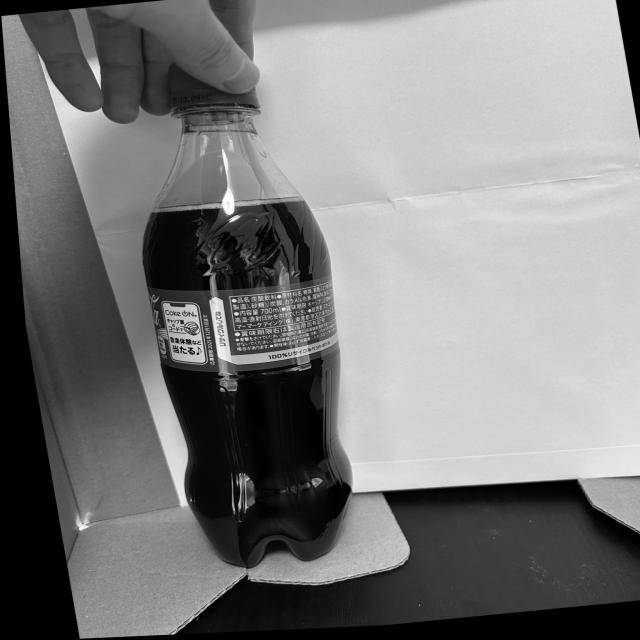high: (143, 66, 351, 566)
